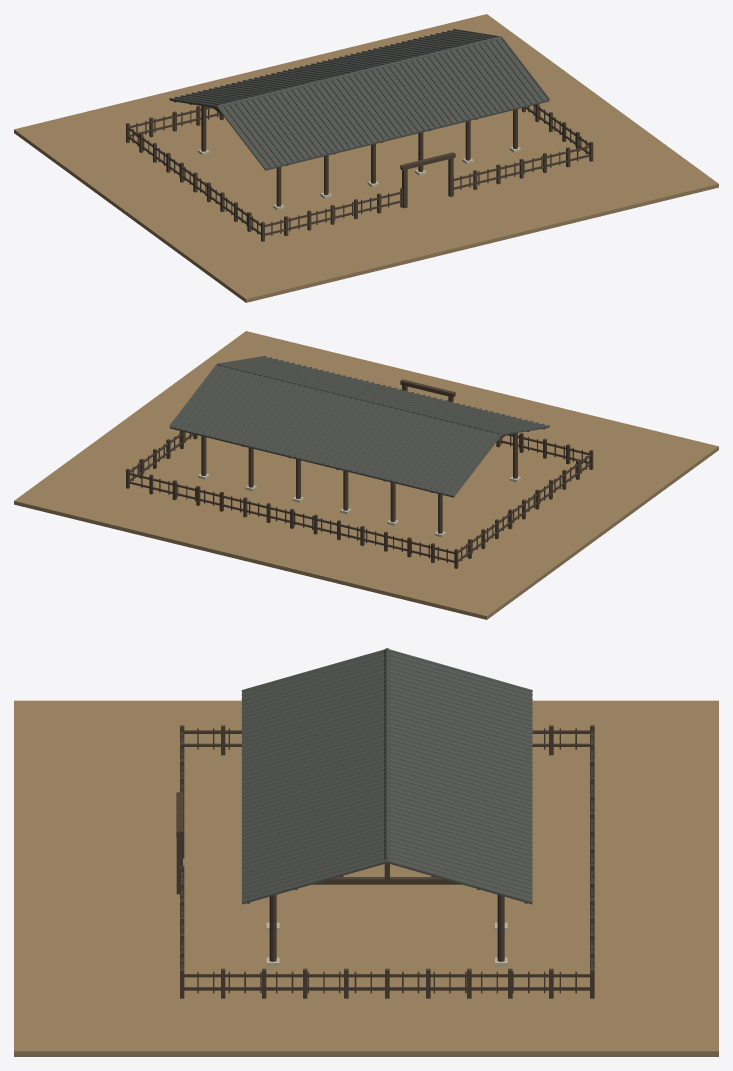
The model's file is stoneclassic_access_middle.glb.
The picture shows the model from 3 angles, top to bottom: view 1: azimuth 30°, elevation 25°; view 2: azimuth 150°, elevation 25°; view 3: azimuth 270°, elevation 25°; orthographic projection. The views are drawn at different scales.
Visible parts, largest first — view 1: LY_stoneclassic_access_court_C_v1_middle; view 2: LY_stoneclassic_access_court_C_v1_middle; view 3: LY_stoneclassic_access_court_C_v1_middle.
Part boxes in pixels (x1,y1,x2,y2): LY_stoneclassic_access_court_C_v1_middle: [14, 14, 718, 302]; LY_stoneclassic_access_court_C_v1_middle: [14, 331, 718, 619]; LY_stoneclassic_access_court_C_v1_middle: [14, 648, 718, 1056].
Bounding box in the file's own units: 40 × 6.84 × 34.
